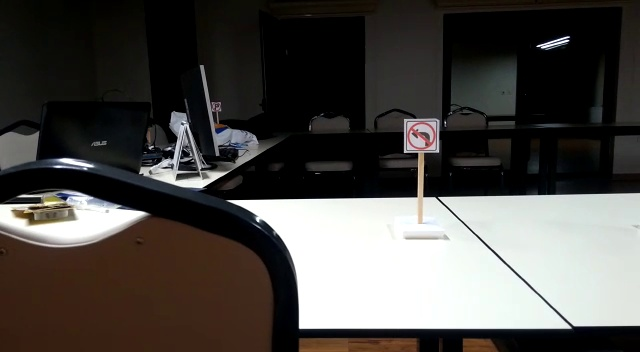sola_donulmez: (404, 121, 439, 155)
